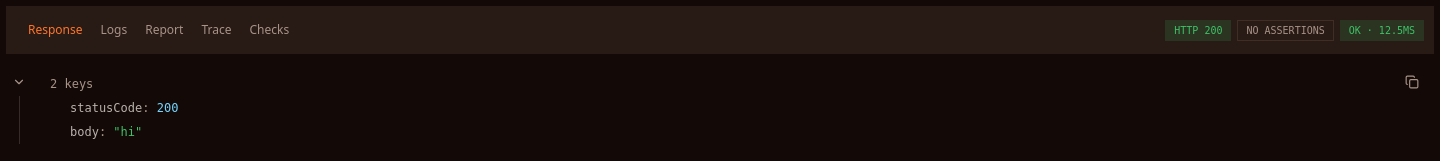
Test: says a script had no assertions rather than showing an empty list
Expected: the text "no assertions" is shown, [1238,20,1334,40]
Step 1. Click the tab "Checks" → point(269, 30), box [240,16,298,44]
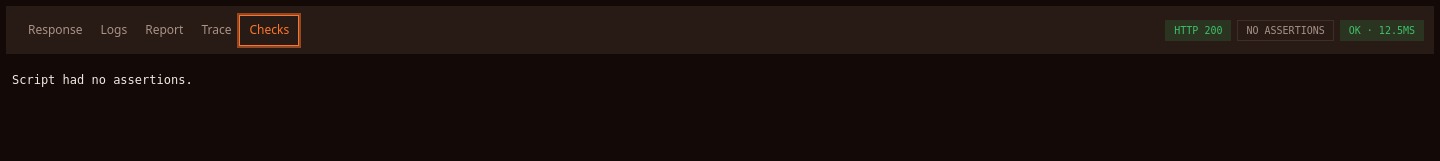
Expected: the text "Script had no assertions." is shown, [12,73,193,87]
